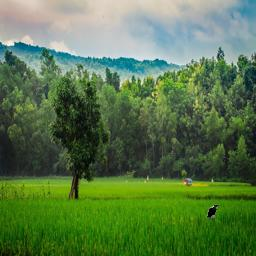Crow: (205, 204, 219, 220)
